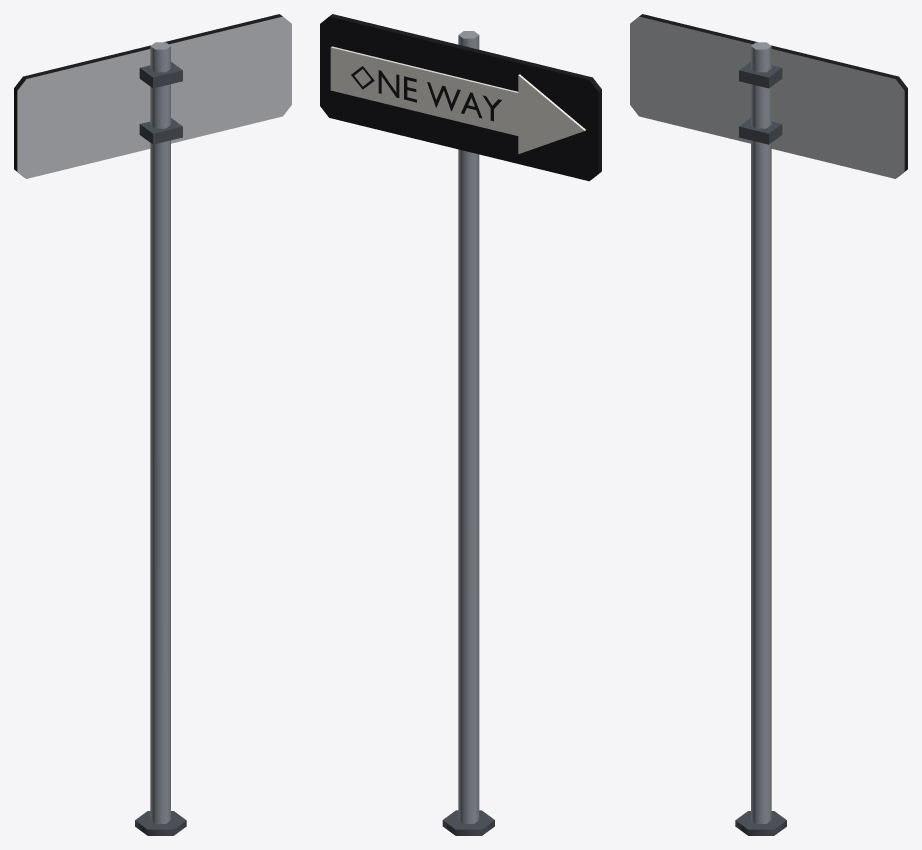
Rendered from sign_oneway.glb.
3 views of the same model, side by side, from view 1: azimuth 30°, elevation 25°; view 2: azimuth 150°, elevation 25°; view 3: azimuth 330°, elevation 25° (orthographic).
Parts seen in each view (by area): view 1: sign_oneway__mesh; view 2: sign_oneway__mesh; view 3: sign_oneway__mesh.
Part boxes in pixels (x1=…): sign_oneway__mesh: x1=14, y1=14, x2=291, y2=835; sign_oneway__mesh: x1=320, y1=14, x2=601, y2=835; sign_oneway__mesh: x1=630, y1=14, x2=907, y2=835.
Bounding box in the file's own units: 0.92 × 2.5 × 0.15.
1 material, 1 textured.
